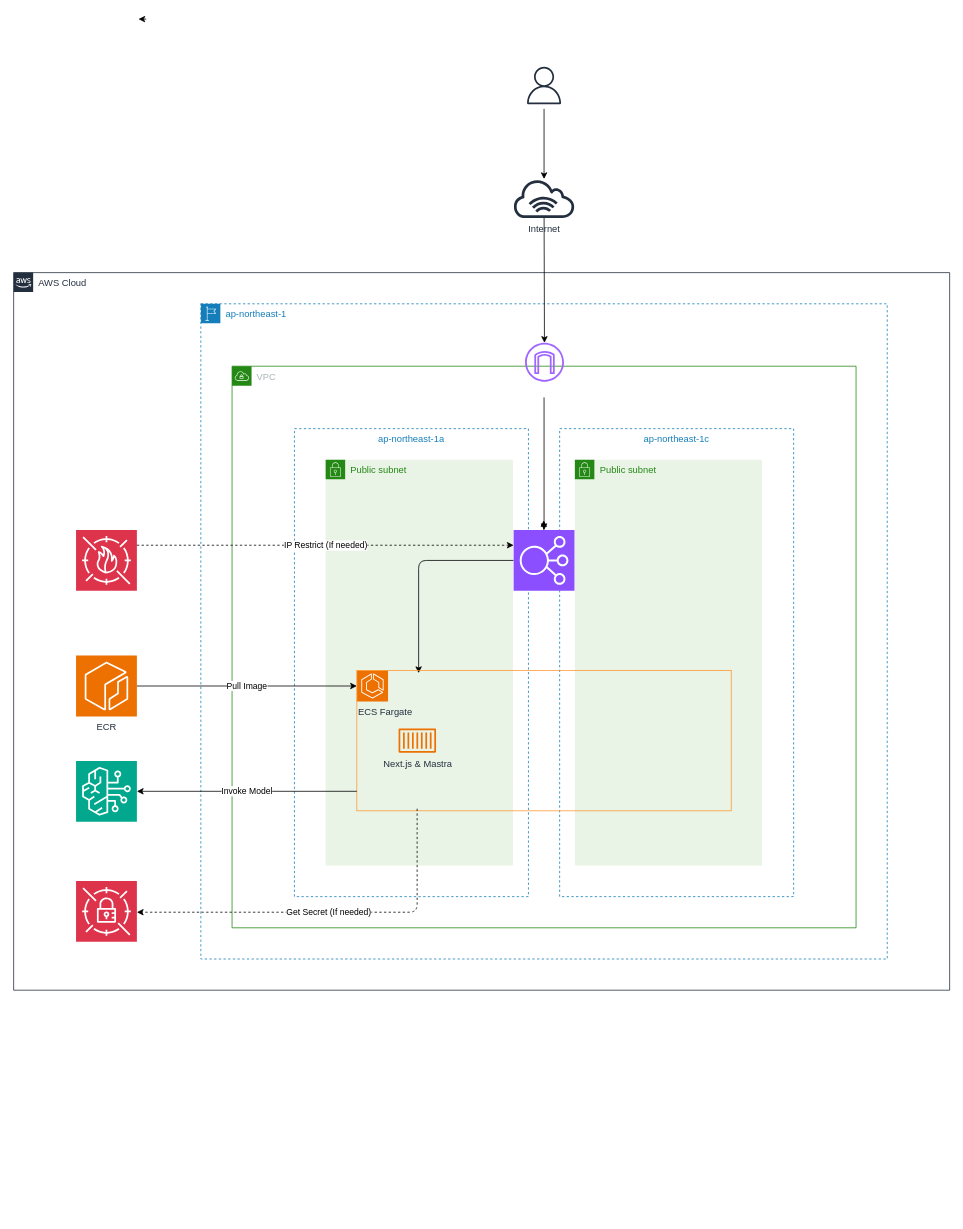
The diagram is 963 pixels wide and 1229 high, and some of its shapes have lost their labels. Here are the shapes that lost their labels. From the top down, the box of each, then its label:
(520, 61, 567, 109): User
(525, 342, 564, 381): Internet Gateway
(75, 529, 137, 591): WAF
(513, 529, 574, 591): ALB
(75, 760, 137, 822): Bedrock
(75, 880, 137, 942): Secrets Manager
